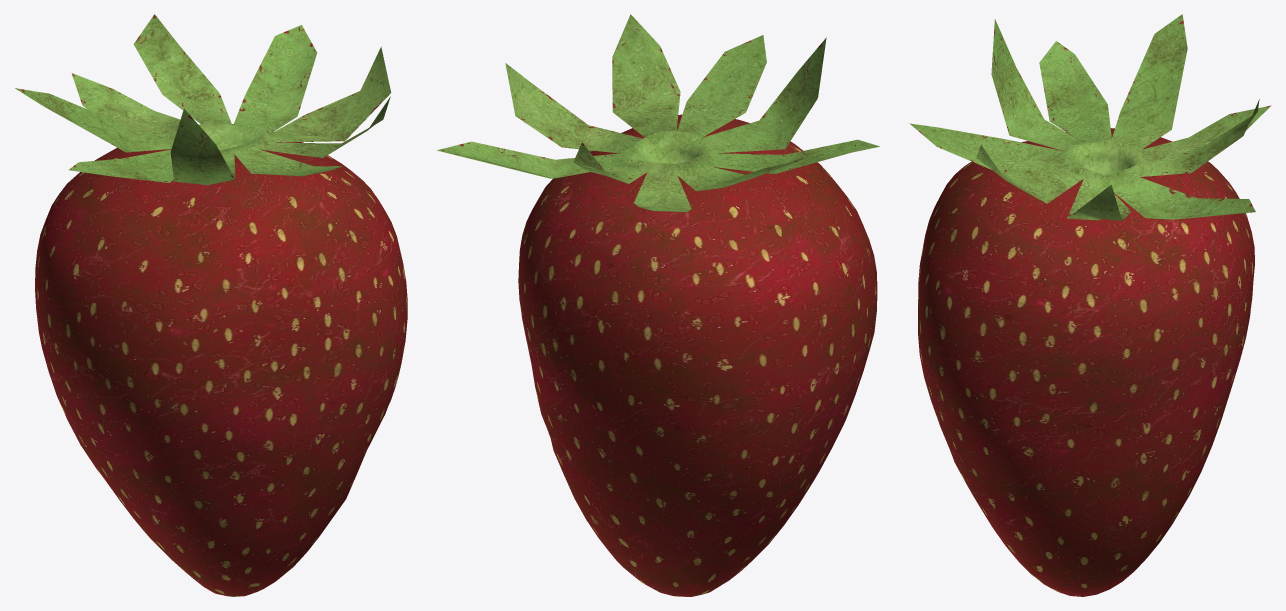
The model's file is strawberry.glb.
3 views of the same model, side by side, from view 1: azimuth 30°, elevation 25°; view 2: azimuth 150°, elevation 25°; view 3: azimuth 270°, elevation 25° (orthographic). The views are drawn at different scales.
Parts seen in each view (by area): view 1: Cube.043; view 2: Cube.043; view 3: Cube.043.
Part boxes in pixels (left/top/right/bottom): Cube.043: left=15, top=14, right=407, bottom=596; Cube.043: left=437, top=14, right=879, bottom=596; Cube.043: left=909, top=14, right=1271, bottom=596.
Size of the model in its own units: 0.5792 by 0.8734 by 0.5436.
Materials: 1 (1 with a texture image).
